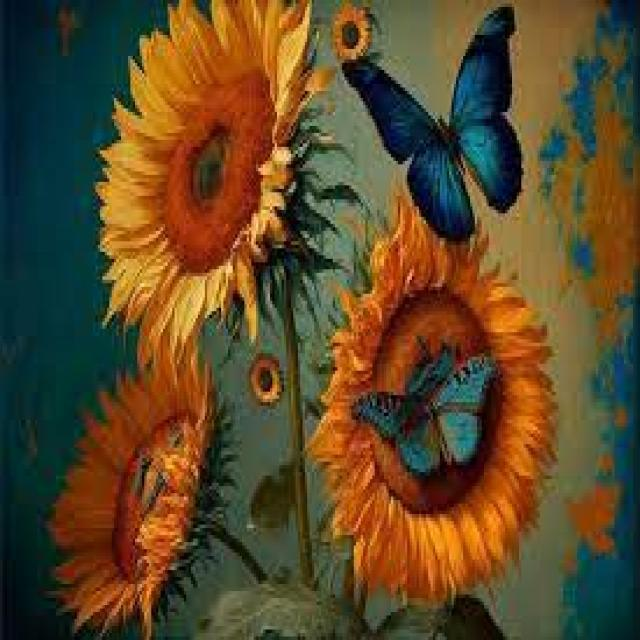sunflower: (304, 181, 558, 609), (93, 0, 335, 364), (44, 328, 214, 636), (332, 0, 374, 63)
